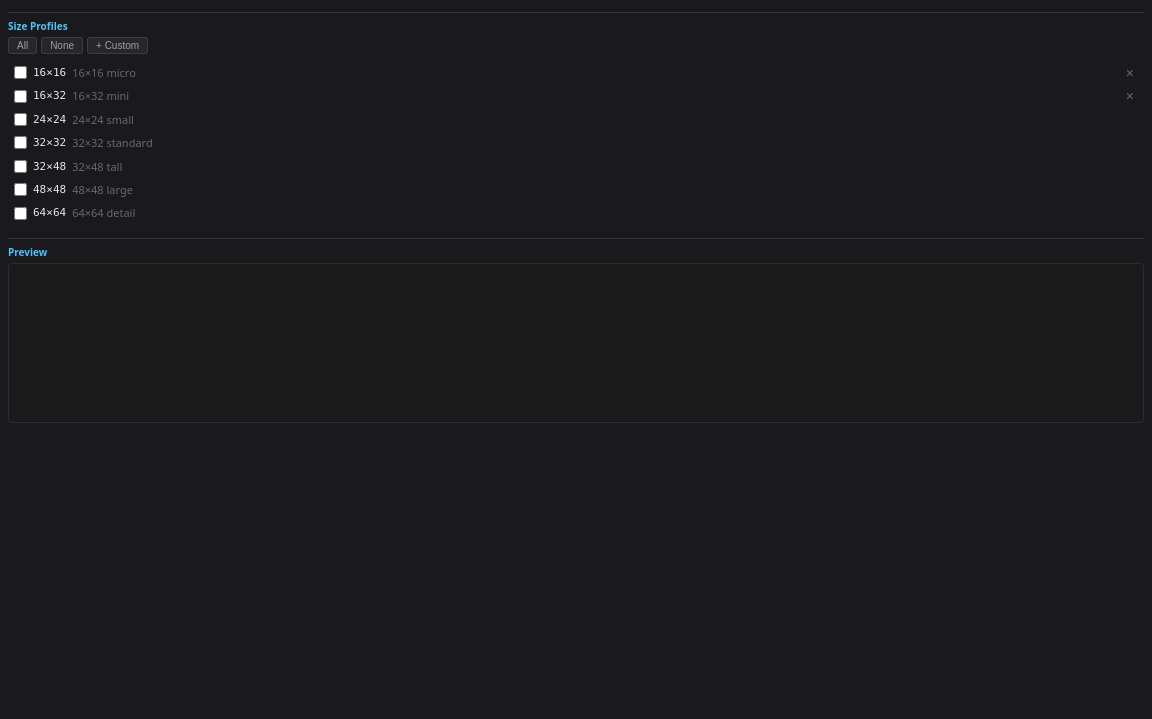
Test: VectorReductionPanel › shows Reduction Analysis header when profiles are active
The image size is (1152, 719).
Expected: the text "Reduction Analysis" is not shown
Activate all
Click the button "All": (23, 46) [8,37,37,54]
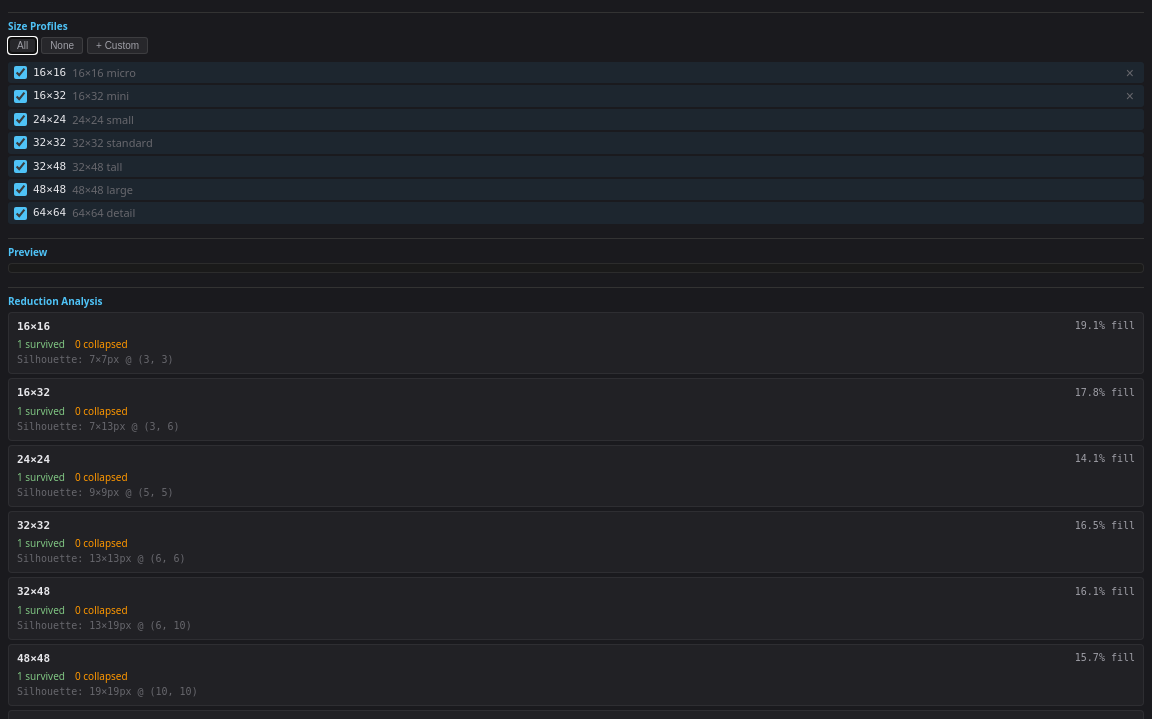
Now the text "Reduction Analysis" is shown, box [8,287,1144,308]
